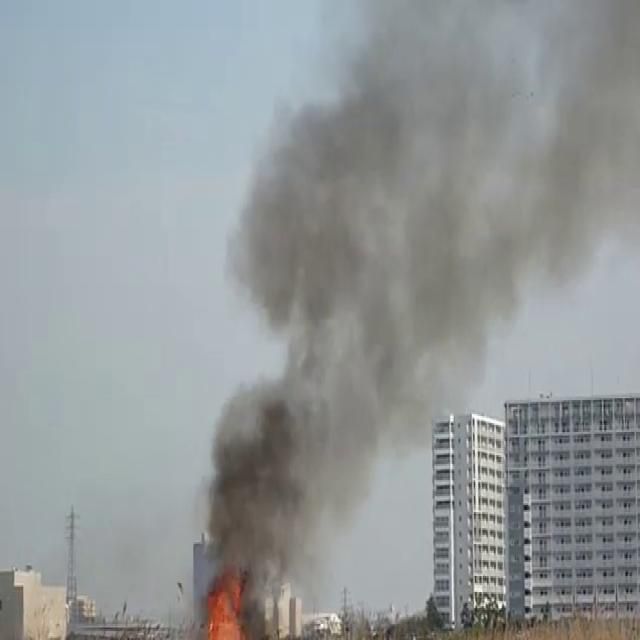Fire: (194, 576, 254, 640)
Smoke: (193, 1, 640, 618)
